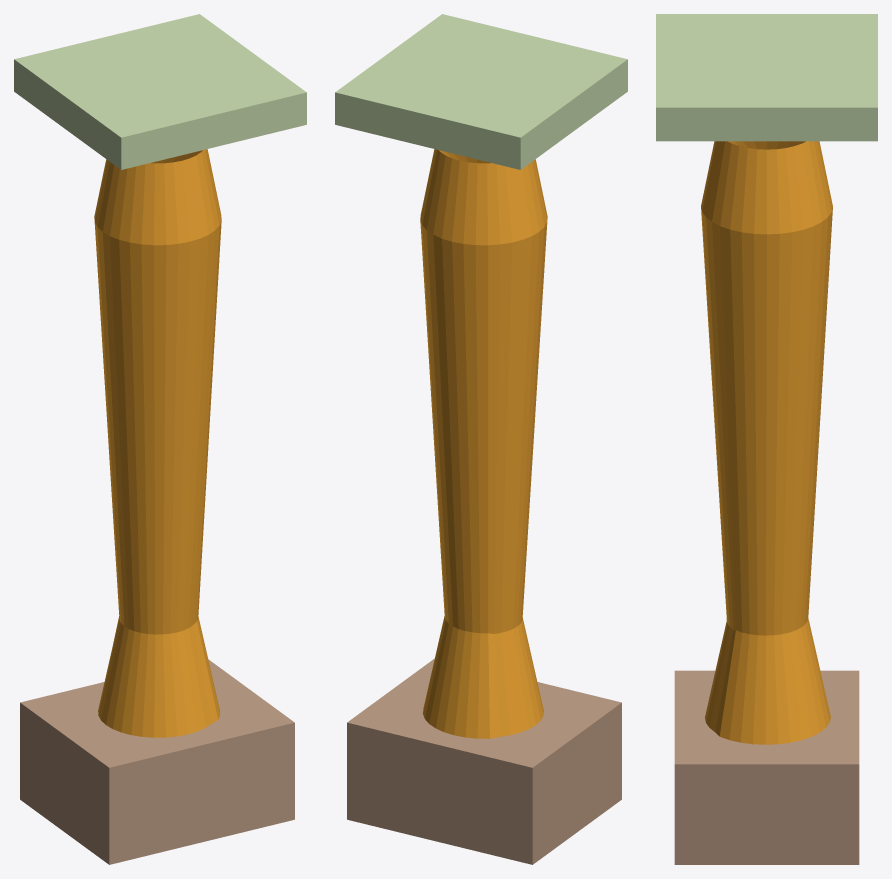
The model's file is columna2n.fbx.
3 views of the same model, side by side, from view 1: azimuth 30°, elevation 25°; view 2: azimuth 150°, elevation 25°; view 3: azimuth 270°, elevation 25° (orthographic). The views are drawn at different scales.
Parts seen in each view (by area): view 1: Cylinder.004; view 2: Cylinder.004; view 3: Cylinder.004.
Part boxes in pixels (<box>): Cylinder.004: <box>14,14,306,864</box>; Cylinder.004: <box>335,14,627,864</box>; Cylinder.004: <box>656,14,877,864</box>.
Size of the model in its own units: 305 by 1132 by 300.
3 materials, 3 textured.
